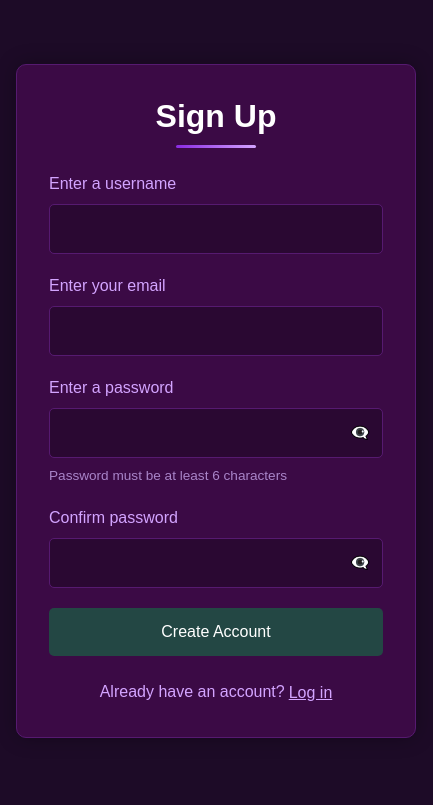
Scenario: SignUpPage › handles unexpected errors gracefully
Type "testuser" into the field labelled "Enter a username" at (216,229), box [49, 204, 383, 254]
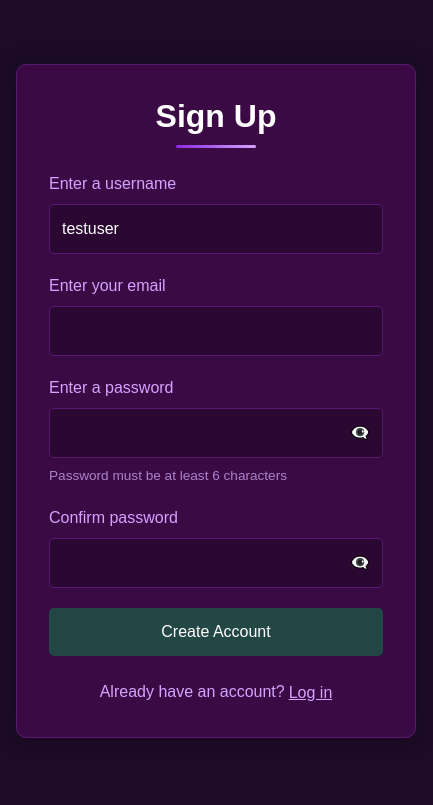
Type "test@example.com" into the field labelled "Enter your email" at (216,331), box [49, 306, 383, 356]
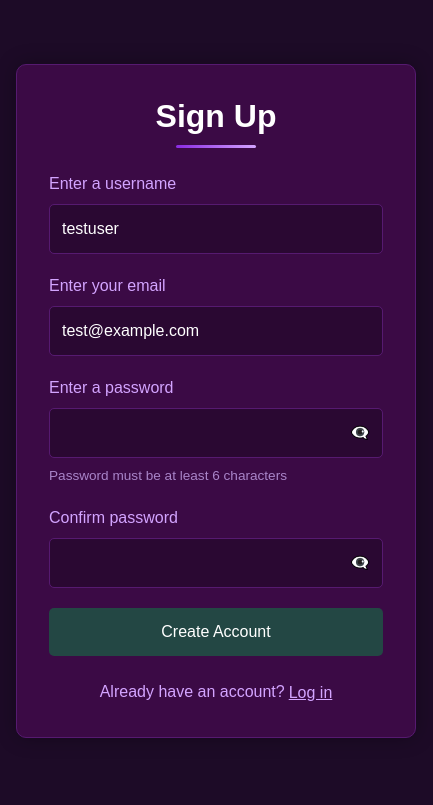
Type "password123" into the password field labelled "Enter a password" at (216,433), box [49, 408, 383, 458]
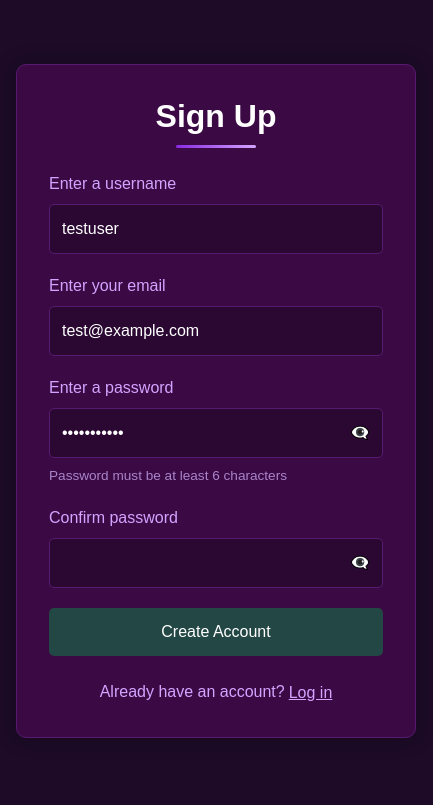
Type "password123" into the password field labelled "Confirm password" at (216,563), box [49, 538, 383, 588]
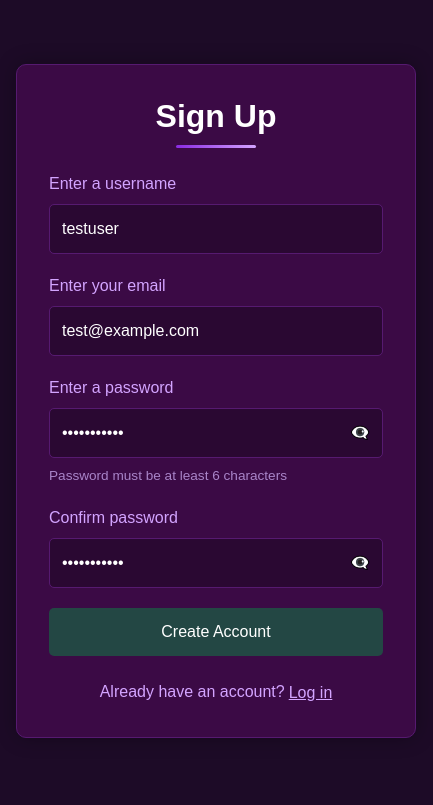
Click the button "Create Account" at (216,632), box [49, 608, 383, 656]
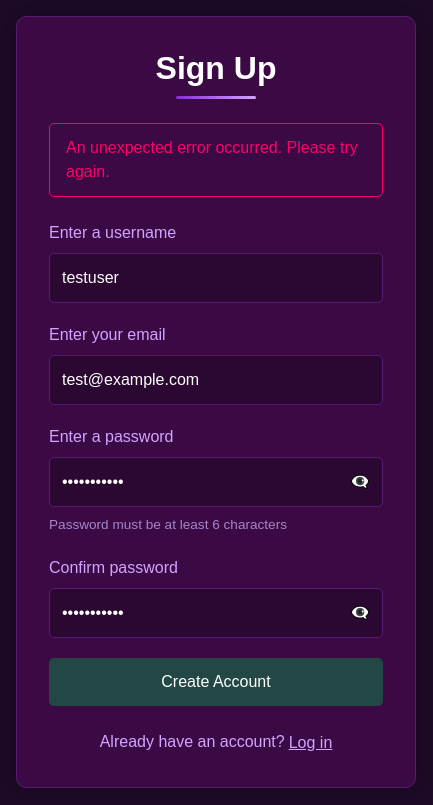
Now the text "An unexpected error occurred. Please try again." is shown, box [49, 123, 383, 197]
